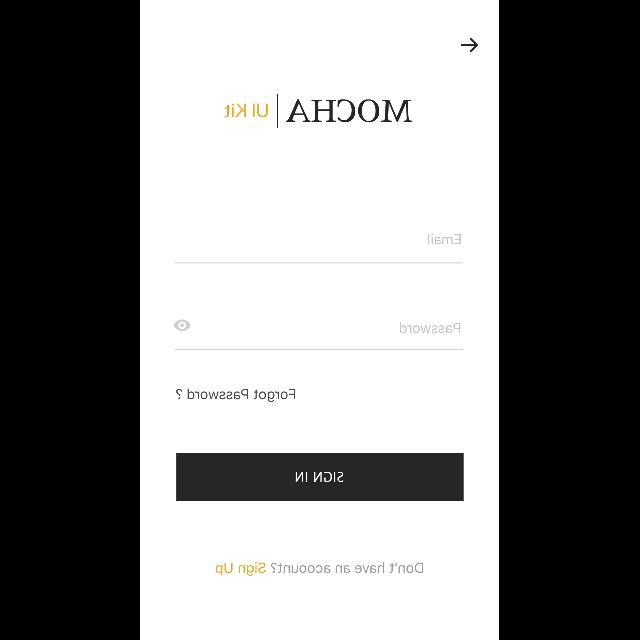icon: (462, 38, 478, 52), (173, 320, 190, 330)
input: (174, 234, 464, 264), (174, 320, 464, 350)
text: (216, 562, 424, 576), (286, 100, 414, 122), (177, 388, 296, 402), (401, 322, 462, 333), (226, 104, 268, 118), (428, 233, 462, 244)
textbutton: (176, 453, 464, 501)
